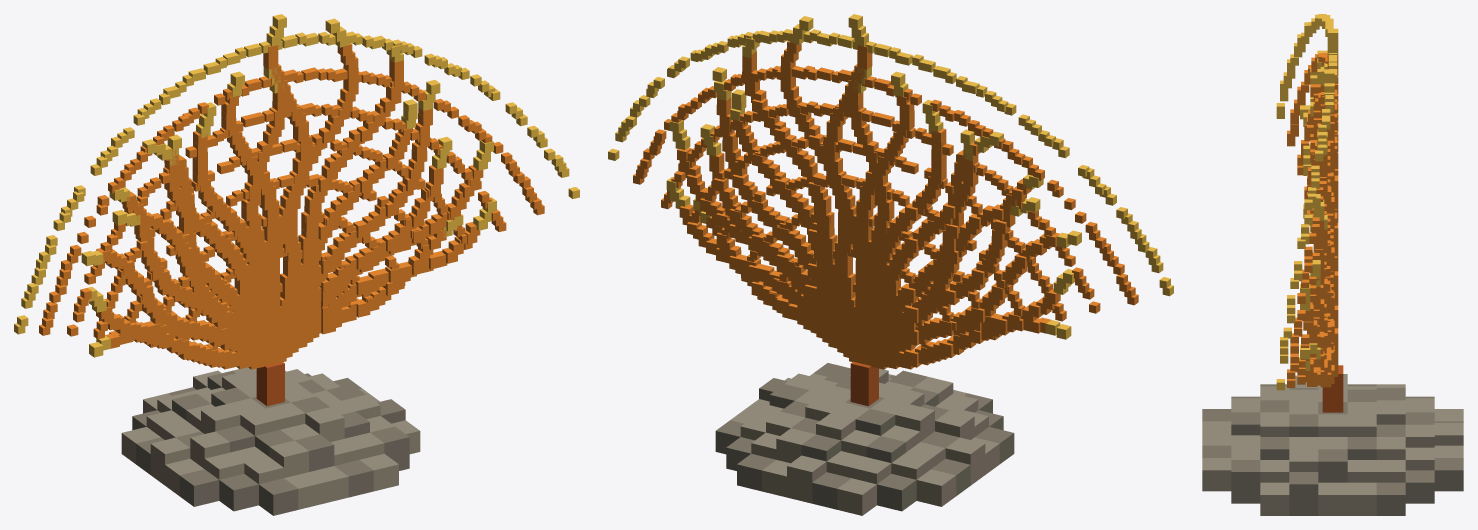
The model's file is CoralSeaFan_Large.obj.
3 renders of one model, left to right at view 1: azimuth 30°, elevation 25°; view 2: azimuth 150°, elevation 25°; view 3: azimuth 270°, elevation 25°, orthographic.
Visible parts, largest first — view 1: CoralSeaFan_Large; view 2: CoralSeaFan_Large; view 3: CoralSeaFan_Large.
Boxes of the visible parts, x1,y1,x2,y2 form: CoralSeaFan_Large: [14, 14, 579, 515]; CoralSeaFan_Large: [608, 14, 1173, 515]; CoralSeaFan_Large: [1202, 14, 1463, 515].
Bounding box in the file's own units: 5.59 × 4.12 × 2.25.
Materials: 1 (1 with a texture image).
